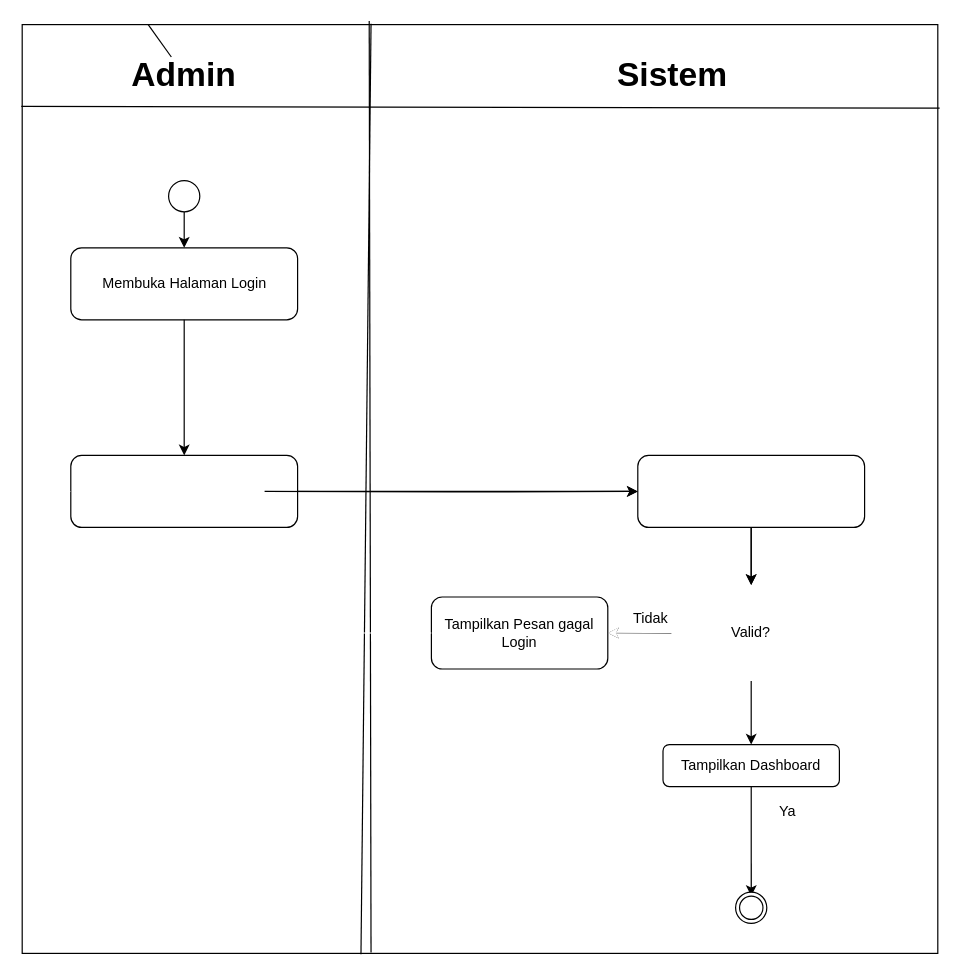
This 962x977 diagram has some shape labels left out. The shapes that lost their labels are listed below. From the top down, each one's centre as x and y in pixels, then its label:
At point 184,490: "Memasukan Username & Password".
At point 751,490: "Validasi data login".
